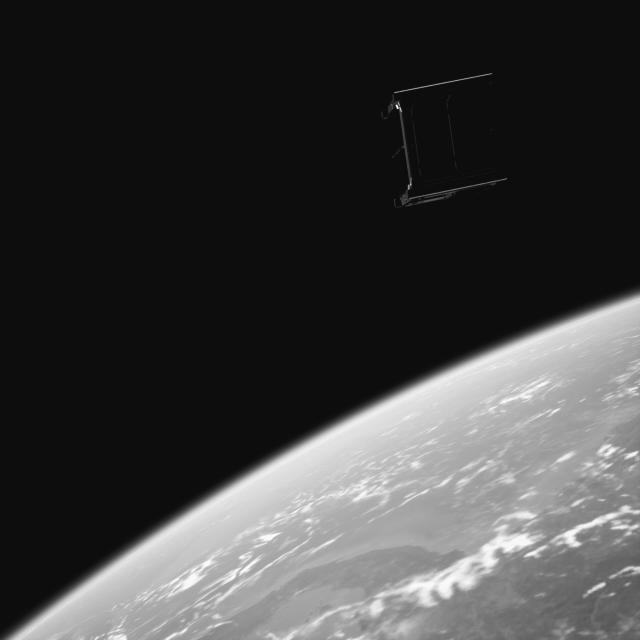satellite: (379, 62, 528, 208)
